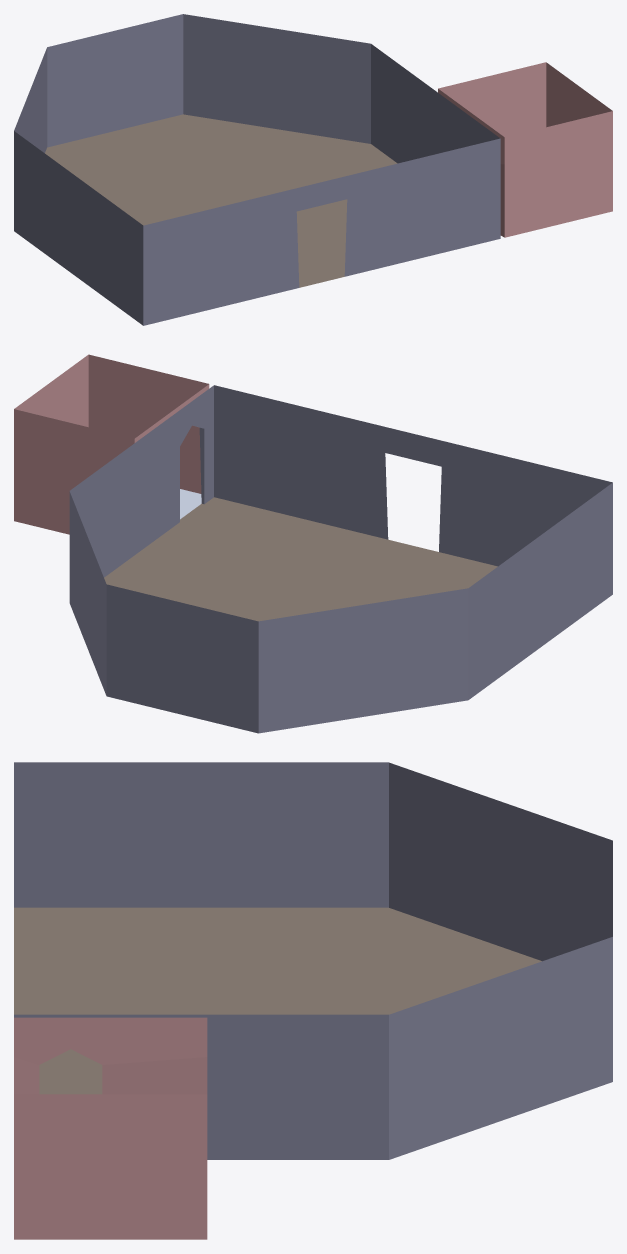
Rendered from Room.fbx.
3 views of the same model, one above another, from view 1: azimuth 30°, elevation 25°; view 2: azimuth 150°, elevation 25°; view 3: azimuth 270°, elevation 25° (orthographic). The views are drawn at different scales.
Visible parts, largest first — view 1: Room; view 2: Room; view 3: Room.
Part boxes in pixels (x1,y1,x2,y2): Room: [14, 14, 612, 325]; Room: [14, 354, 612, 733]; Room: [14, 762, 612, 1239].
Size of the model in its own units: 28308 by 5781 by 21600.
